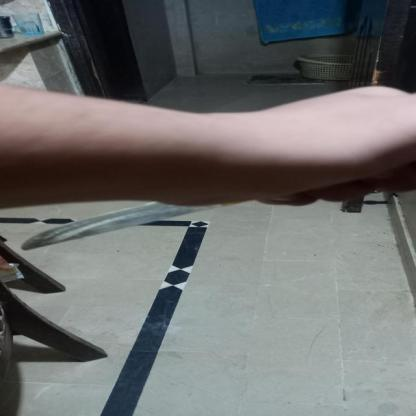Knife: (20, 201, 238, 250)
